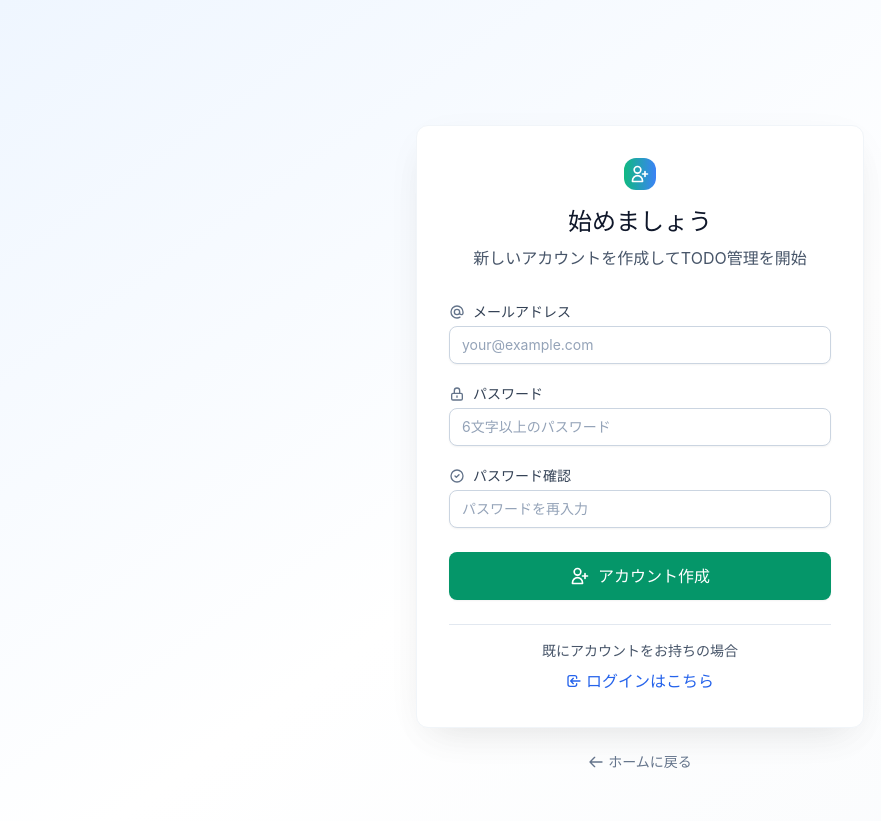
SignupForm › フォーム入力 › 入力時にエラーがクリアされる
# エラーを発生させる
Click the button "アカウント作成".
click(640, 576)  # box 449,552 -> 831,600
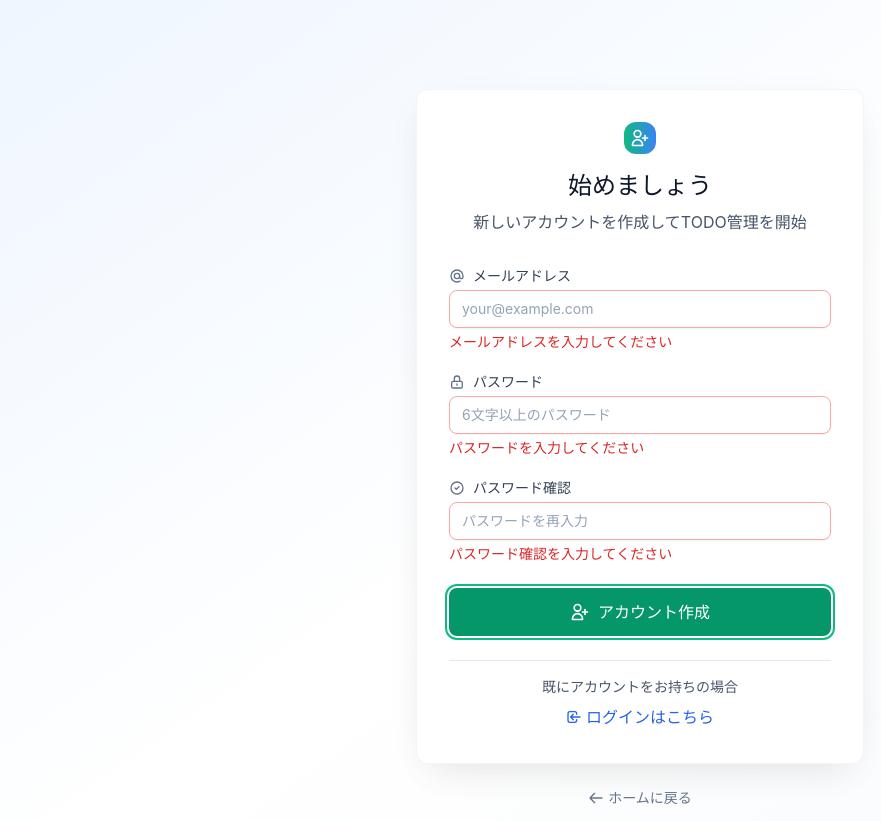
Expected: the text "メールアドレスを入力してください" is shown, 449,332 -> 672,350
# 入力するとエラーがクリアされる
Type "test@example.com" into the field labelled "メールアドレス".
click(640, 308); type("test@example.com")  # box 449,290 -> 831,328
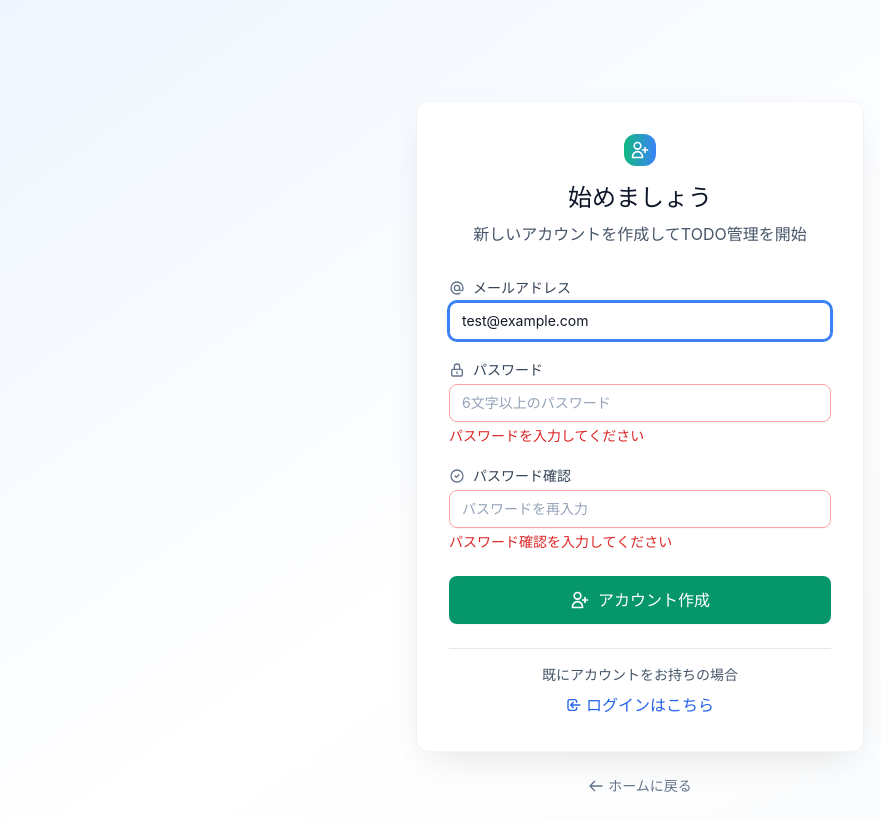
Expected: the text "メールアドレスを入力してください" is gone
